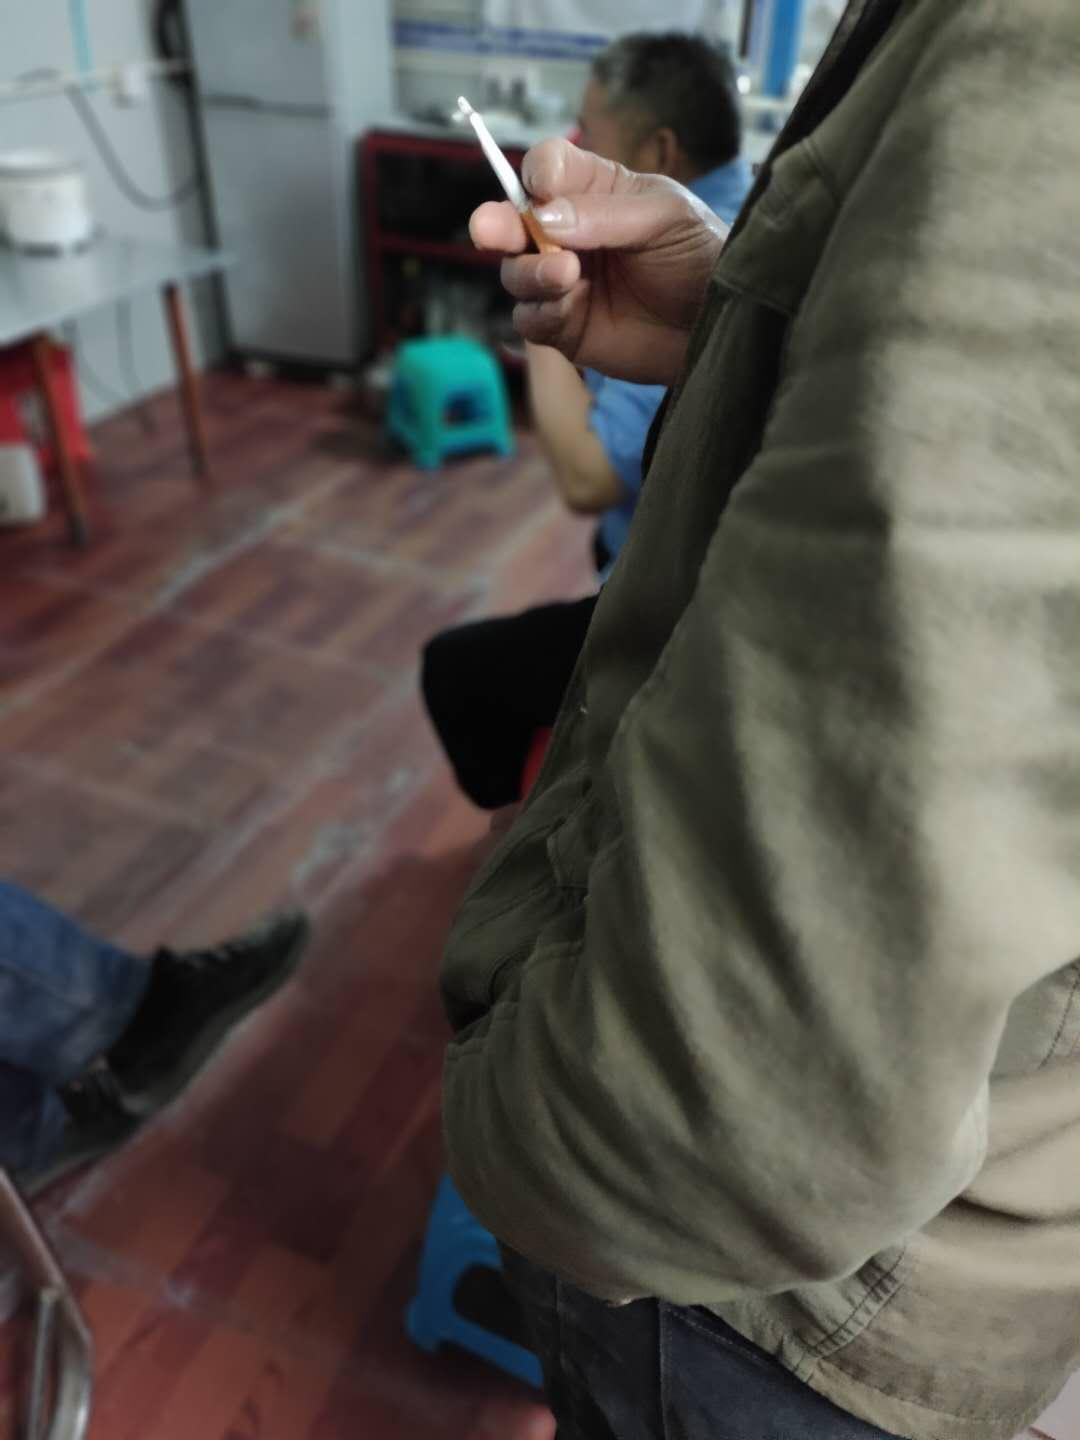Cigarette: (461, 98, 555, 251)
